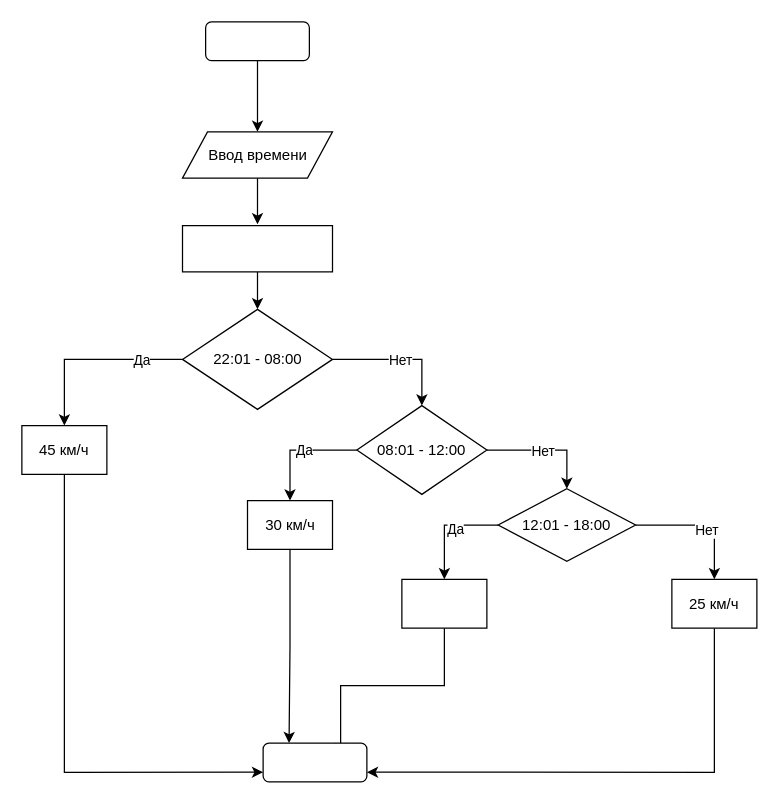
This 779x805 diagram has some shape labels left out. The shapes that lost their labels are listed below. From the top down, each one's centre as x and y in pixels, then its label:
the point at 256,41: Начало
the point at 256,248: Получение данных из таблицы
the point at 444,603: 40 км/ч
the point at 314,762: Конец
